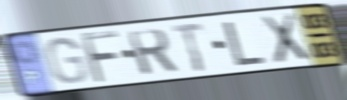F: (79, 29, 123, 86)
G: (44, 35, 90, 86)
L: (223, 19, 269, 68)
R: (125, 27, 181, 78)
T: (169, 21, 207, 74)
X: (258, 10, 312, 66)
